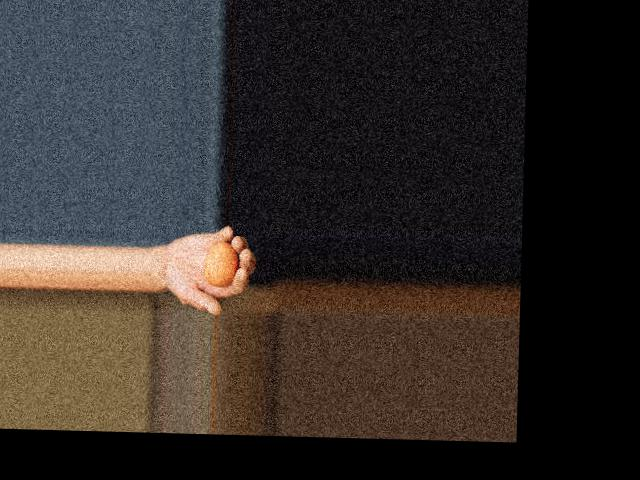egg: (203, 240, 237, 286)
